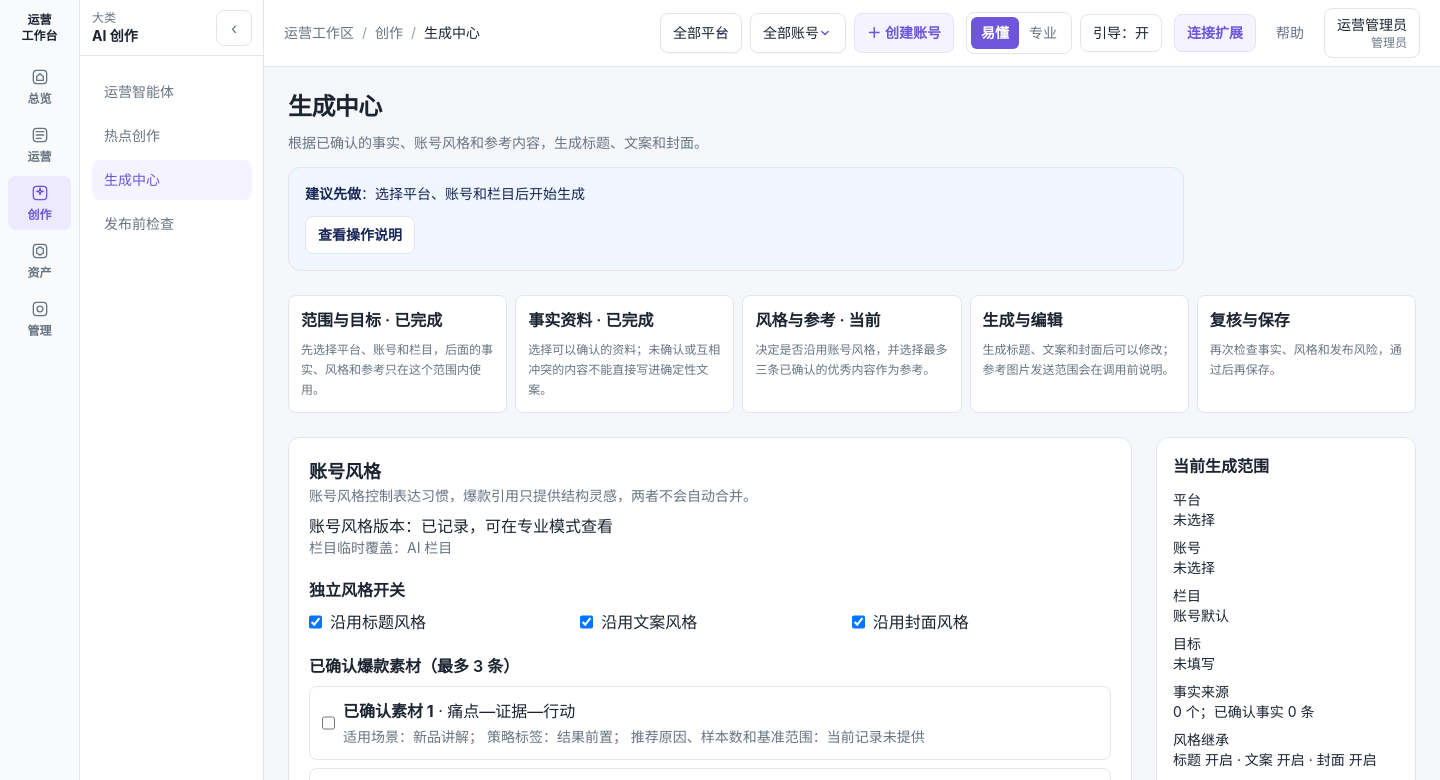
allows only three confirmed viral references and never offers candidates
Click the checkbox labelled "已确认素材".
click(328, 723)  # box [322,699,335,747]
(page scrolled)
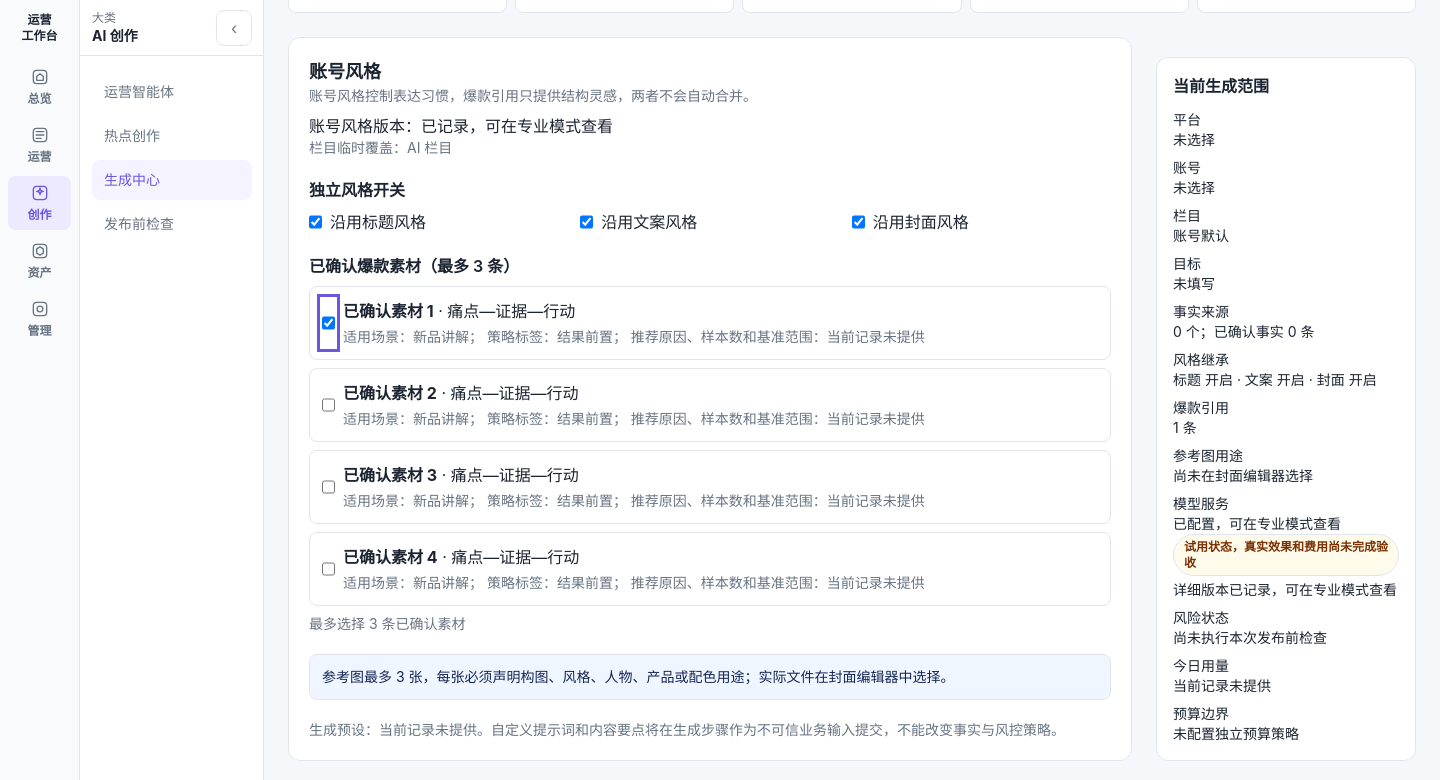
Click the checkbox labelled "已确认素材".
click(328, 405)  # box [322,381,335,429]
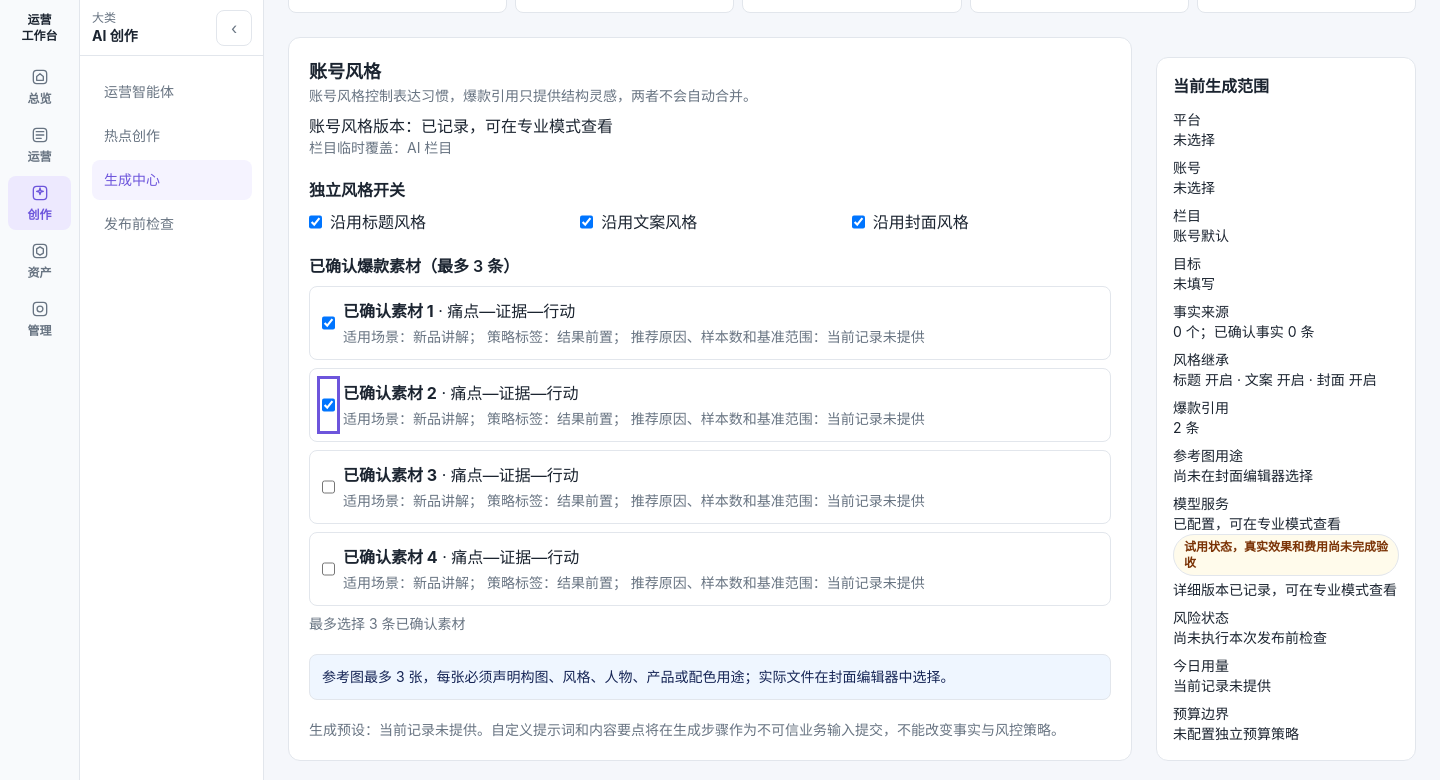
Click the checkbox labelled "已确认素材".
click(328, 487)  # box [322,463,335,511]
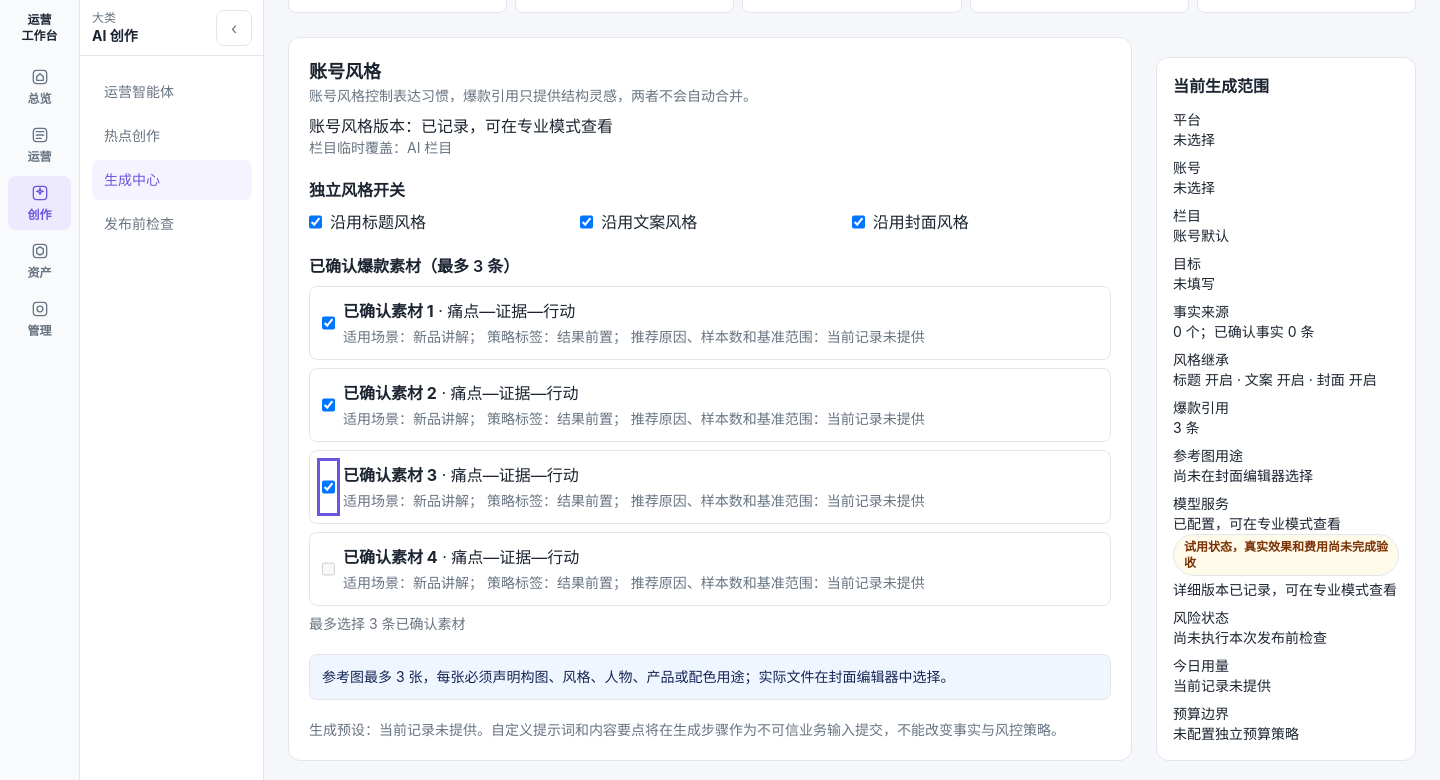
Expected: the text "最多选择 3 条已确认素材" is shown, [309,615,466,632]
Expected: the checkbox labelled "已确认素材" is disabled, [322,545,335,593]
